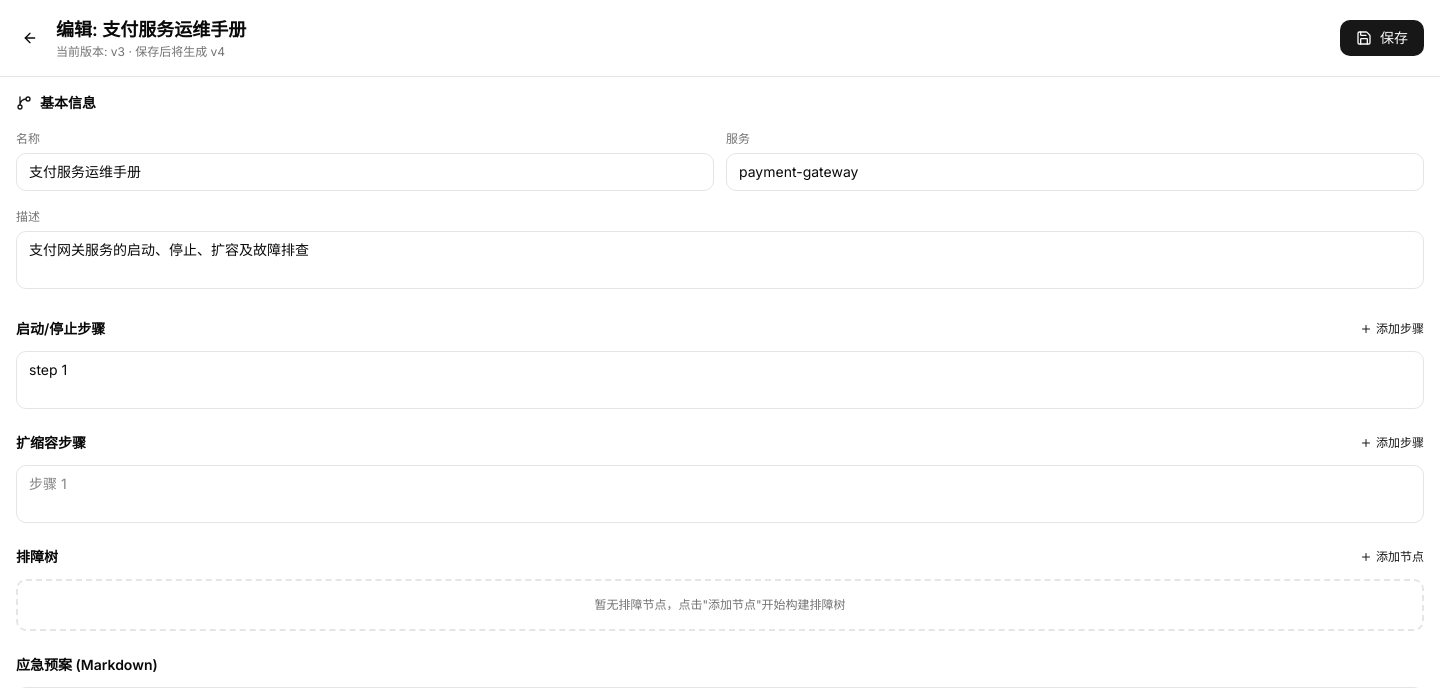
Scenario: RunbookEditor › adds a new start/stop step
This screenshot has width=1440, height=688.
Click the button "添加步骤" in the row of "启动/停止步骤" at (1392, 329), box x1=1360 y1=321 x2=1424 y2=337
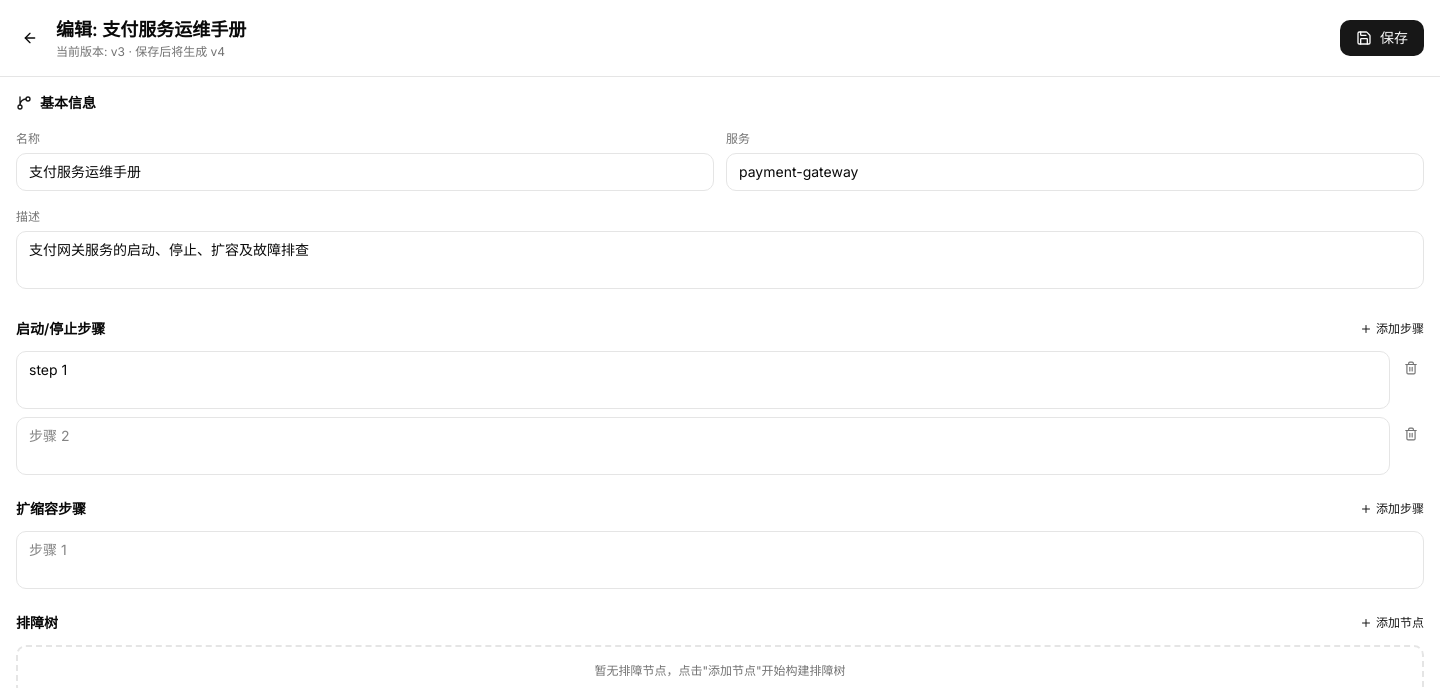
Result: the number of text boxes with placeholder "步骤 1" is 3 at x1=16 y1=351 x2=1390 y2=409; x1=16 y1=417 x2=1390 y2=475; x1=16 y1=531 x2=1424 y2=589
